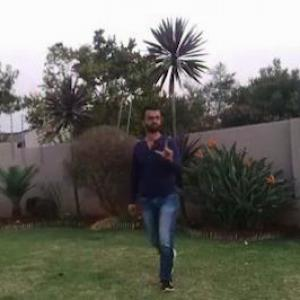land_hand: (150, 128, 178, 164)
